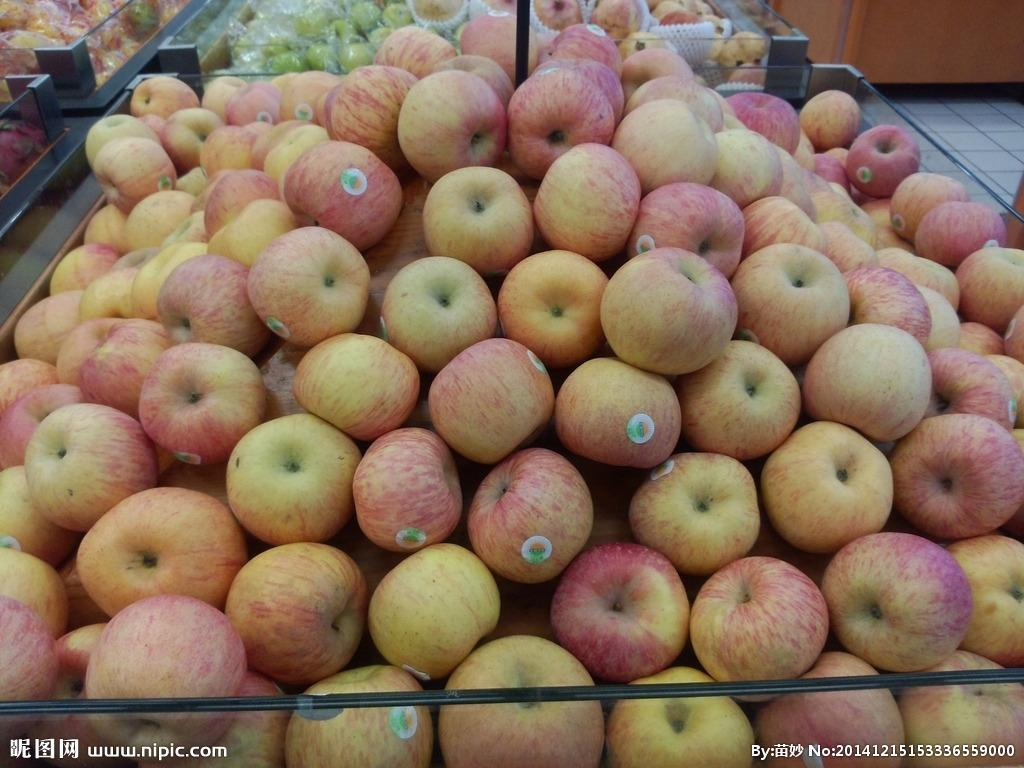apple: (436, 636, 605, 768), (227, 538, 366, 692), (78, 487, 243, 609), (367, 542, 501, 675), (599, 246, 737, 375), (690, 557, 827, 684), (762, 422, 893, 554), (759, 650, 905, 768), (467, 448, 595, 582), (226, 415, 359, 543), (426, 339, 554, 462), (893, 415, 1021, 537), (627, 452, 761, 568), (894, 649, 1024, 768), (731, 244, 849, 369), (289, 665, 432, 768), (804, 323, 929, 440), (142, 344, 265, 462), (554, 358, 682, 468), (246, 225, 368, 340), (353, 423, 463, 549), (685, 339, 801, 455), (401, 72, 515, 185), (380, 255, 497, 364), (534, 142, 640, 261), (292, 335, 414, 438), (630, 182, 744, 284), (502, 251, 610, 358), (508, 70, 615, 176), (613, 101, 716, 193), (925, 343, 1017, 437), (325, 65, 422, 154), (959, 246, 1024, 328)
